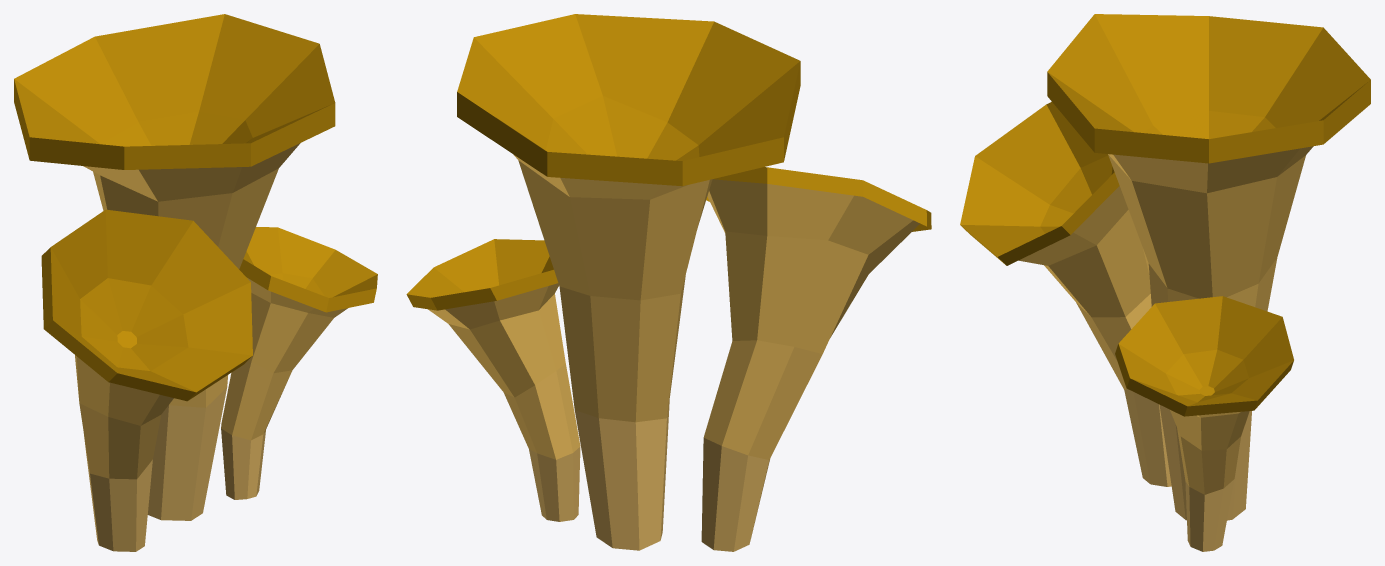
File: YellowMushroom.fbx
3 views of the same model, side by side, from view 1: azimuth 30°, elevation 25°; view 2: azimuth 150°, elevation 25°; view 3: azimuth 270°, elevation 25° (orthographic). The views are drawn at different scales.
Parts seen in each view (by area): view 1: YellowMushroom; view 2: YellowMushroom; view 3: YellowMushroom.
Part boxes in pixels (<box>): YellowMushroom: <box>14,14,377,551</box>; YellowMushroom: <box>406,14,931,551</box>; YellowMushroom: <box>960,14,1370,551</box>.
Size of the model in its own units: 0.4113 by 0.4271 by 0.355.
